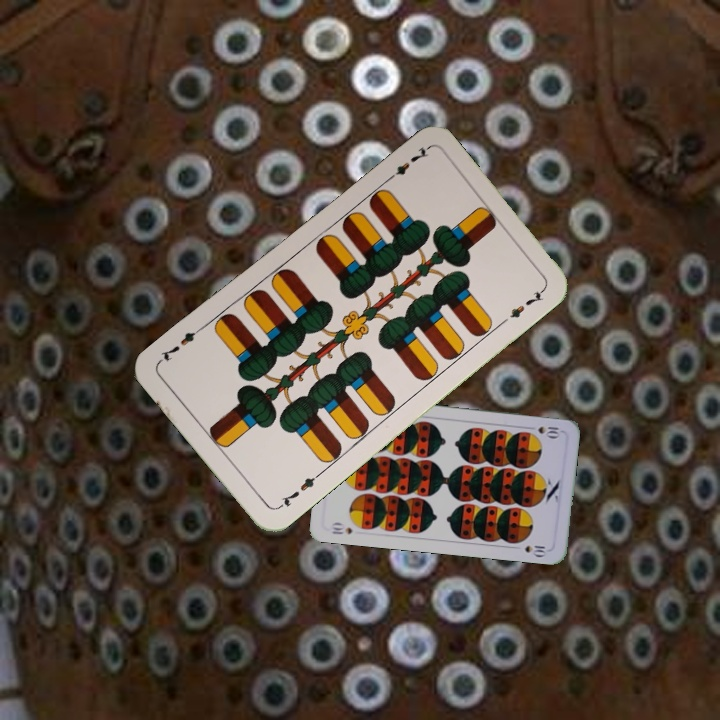E7: (381, 142, 431, 185), (274, 469, 323, 512)
S10: (534, 422, 564, 440), (328, 519, 355, 537)
